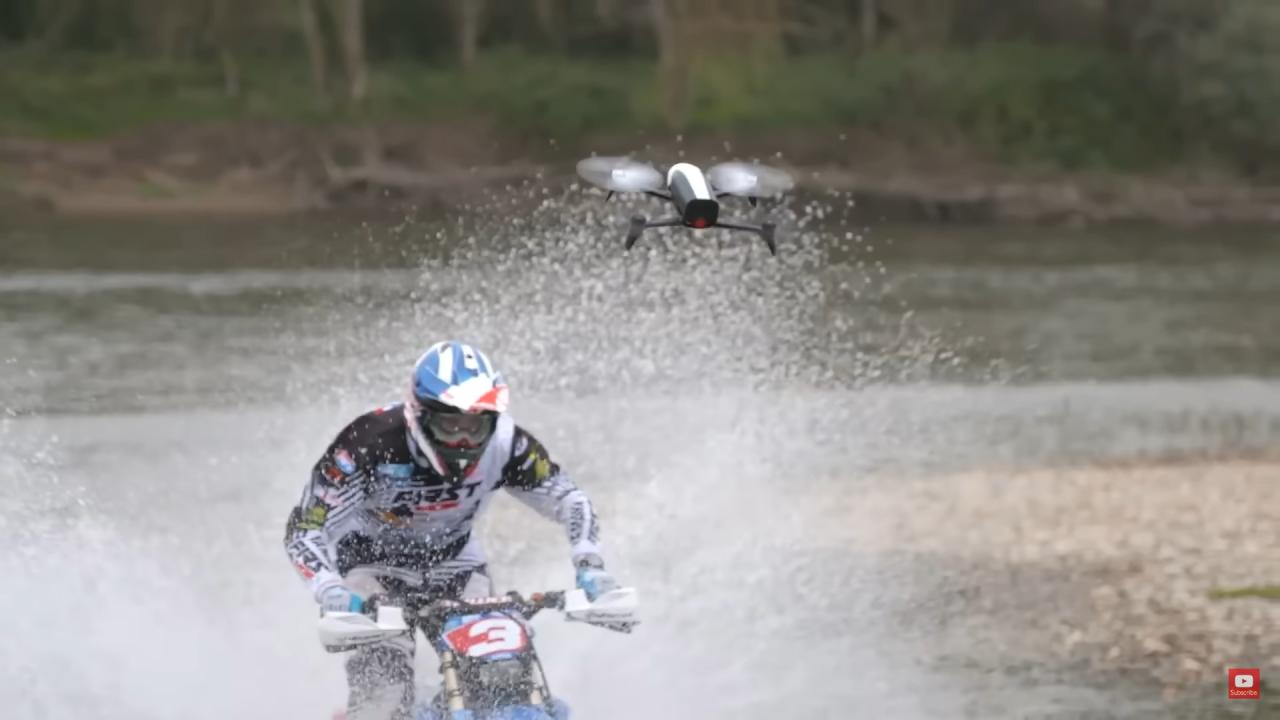Drone: (567, 145, 802, 269)
